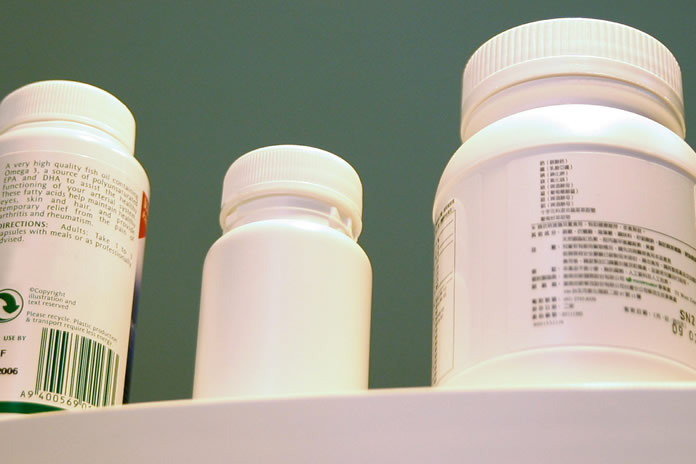medicinejar: (427, 18, 696, 386), (1, 75, 144, 413), (199, 138, 382, 400)
